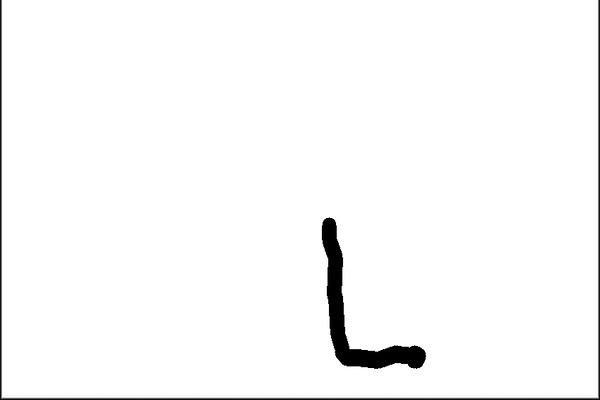L: (307, 210, 436, 379)
